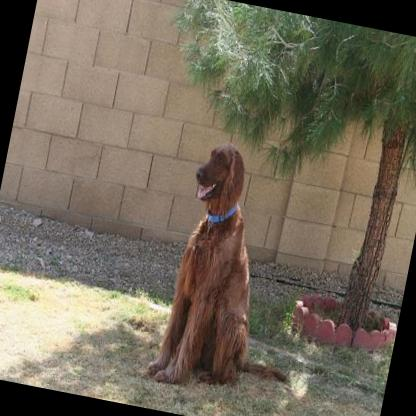Irish_setter: (140, 134, 330, 404)
